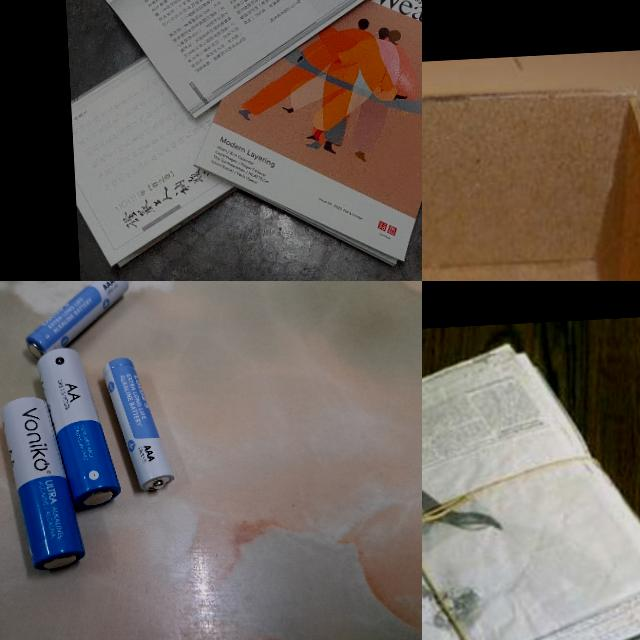bateria: (0, 395, 85, 573), (38, 346, 123, 510), (101, 355, 176, 494), (23, 281, 131, 358)
papel: (51, 0, 422, 281), (422, 328, 640, 640)
papelão: (422, 76, 640, 281)
